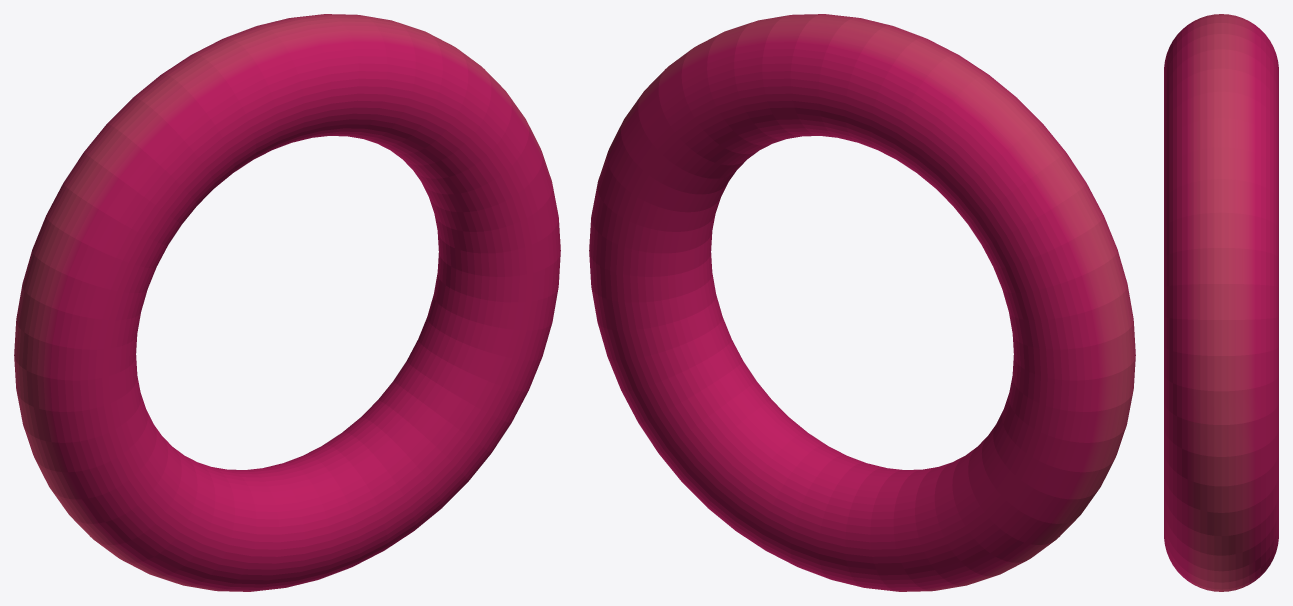
The picture shows the model from 3 angles, left to right: view 1: azimuth 30°, elevation 25°; view 2: azimuth 150°, elevation 25°; view 3: azimuth 270°, elevation 25°; orthographic projection. The views are drawn at different scales.
Parts seen in each view (by area): view 1: world; view 2: world; view 3: world.
Boxes of the visible parts, x1=… form: world: x1=14, y1=14, x2=560, y2=591; world: x1=589, y1=14, x2=1135, y2=591; world: x1=1164, y1=14, x2=1278, y2=591.
Bounding box in the file's own units: 34.13 × 34.07 × 6.79.
